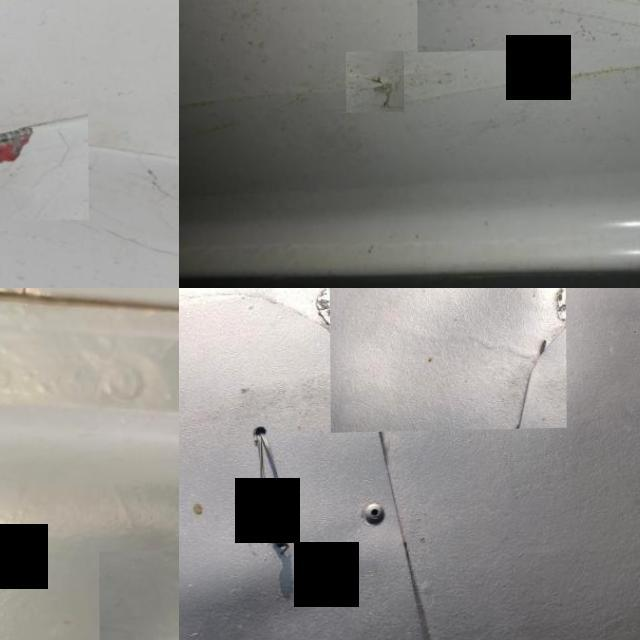Crack: (430, 9, 640, 67), (0, 100, 88, 224), (422, 63, 640, 104), (347, 53, 404, 113)
Dent: (328, 288, 566, 434), (98, 549, 179, 640)
